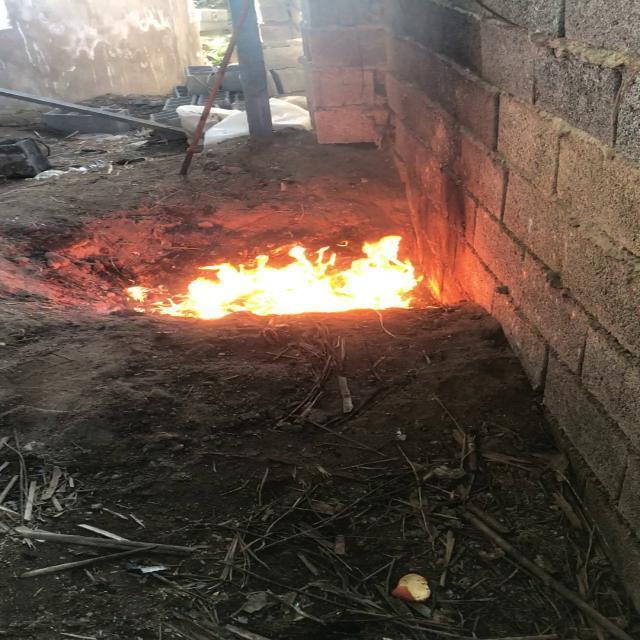Fire: (112, 210, 482, 349)
